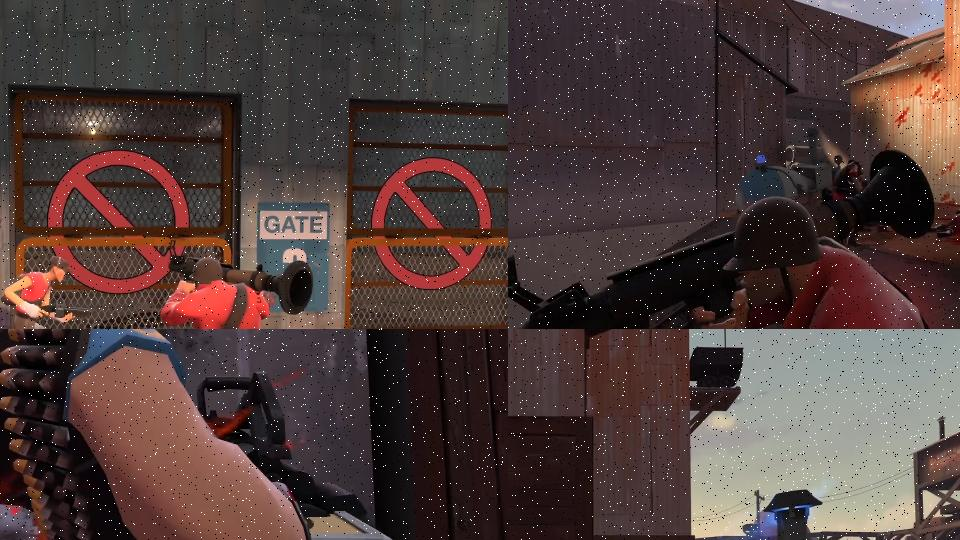Enemy: (508, 146, 960, 329), (0, 329, 322, 540), (154, 238, 314, 329), (0, 254, 95, 329), (831, 158, 868, 246), (930, 205, 960, 239)
